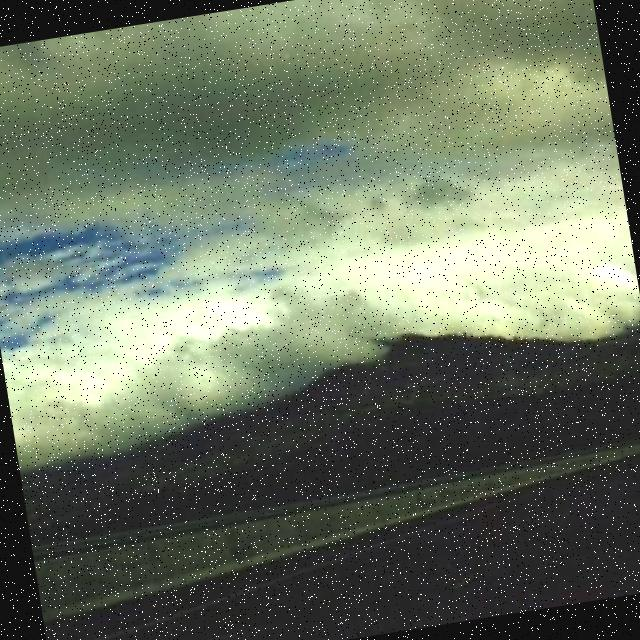Sc: (1, 1, 640, 421)
